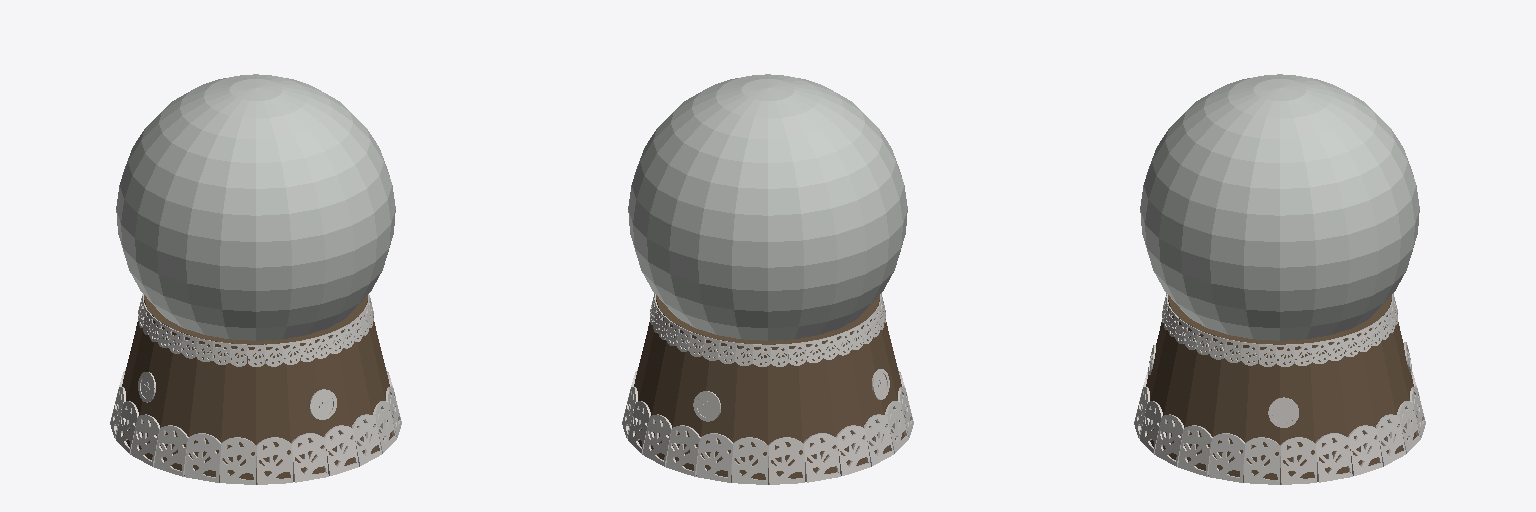
3 renders of one model, left to right at view 1: azimuth 30°, elevation 25°; view 2: azimuth 150°, elevation 25°; view 3: azimuth 270°, elevation 25°, orthographic.
Visible parts, largest first — view 1: Mesh1 Group1 Groupe_13_1 Model, Mesh58 Group60 Group46 Groupe_13_1 Model, Mesh63 Group65 Group46 Groupe_13_1 Model, Mesh61 Group63 Group46 Groupe_13_1 Model, Mesh48 Group50 Group46 Groupe_13_1 Model, Mesh62 Group64 Group46 Groupe_13_1 Model, Mesh51 Group53 Group46 Groupe_13_1 Model, Mesh68 Group70 Group46 Groupe_13_1 Model, Mesh49 Group51 Group46 Groupe_13_1 Model, Mesh65 Group67 Group46 Groupe_13_1 Model, Mesh45 Group47 Group46 Groupe_13_1 Model, Mesh3 Group3 Groupe_13_1 Model; view 2: Mesh1 Group1 Groupe_13_1 Model, Mesh59 Group61 Group46 Groupe_13_1 Model, Mesh64 Group66 Group46 Groupe_13_1 Model, Mesh69 Group71 Group46 Groupe_13_1 Model, Mesh60 Group62 Group46 Groupe_13_1 Model, Mesh67 Group69 Group46 Groupe_13_1 Model, Mesh57 Group59 Group46 Groupe_13_1 Model, Mesh50 Group52 Group46 Groupe_13_1 Model, Mesh65 Group67 Group46 Groupe_13_1 Model, Mesh56 Group58 Group46 Groupe_13_1 Model, Mesh68 Group70 Group46 Groupe_13_1 Model, Mesh78 Group82 Groupe_13_1 Model; view 3: Mesh1 Group1 Groupe_13_1 Model, Mesh47 Group49 Group46 Groupe_13_1 Model, Mesh53 Group55 Group46 Groupe_13_1 Model, Mesh46 Group48 Group46 Groupe_13_1 Model, Mesh54 Group56 Group46 Groupe_13_1 Model, Mesh52 Group54 Group46 Groupe_13_1 Model, Mesh55 Group57 Group46 Groupe_13_1 Model, Mesh45 Group47 Group46 Groupe_13_1 Model, Mesh56 Group58 Group46 Groupe_13_1 Model, Mesh79 Group83 Groupe_13_1 Model, Mesh49 Group51 Group46 Groupe_13_1 Model, Mesh50 Group52 Group46 Groupe_13_1 Model.
Part boxes in pixels (bbox=[...]): Mesh1 Group1 Groupe_13_1 Model: bbox=[116, 74, 395, 484]; Mesh58 Group60 Group46 Groupe_13_1 Model: bbox=[220, 437, 256, 484]; Mesh63 Group65 Group46 Groupe_13_1 Model: bbox=[256, 437, 292, 484]; Mesh61 Group63 Group46 Groupe_13_1 Model: bbox=[184, 433, 220, 482]; Mesh48 Group50 Group46 Groupe_13_1 Model: bbox=[291, 433, 328, 482]; Mesh62 Group64 Group46 Groupe_13_1 Model: bbox=[154, 425, 188, 476]; Mesh51 Group53 Group46 Groupe_13_1 Model: bbox=[324, 425, 358, 475]; Mesh68 Group70 Group46 Groupe_13_1 Model: bbox=[130, 414, 159, 466]; Mesh49 Group51 Group46 Groupe_13_1 Model: bbox=[352, 414, 381, 466]; Mesh65 Group67 Group46 Groupe_13_1 Model: bbox=[116, 401, 138, 453]; Mesh45 Group47 Group46 Groupe_13_1 Model: bbox=[373, 401, 396, 453]; Mesh3 Group3 Groupe_13_1 Model: bbox=[309, 389, 336, 419]; Mesh1 Group1 Groupe_13_1 Model: bbox=[628, 74, 907, 484]; Mesh59 Group61 Group46 Groupe_13_1 Model: bbox=[732, 437, 768, 484]; Mesh64 Group66 Group46 Groupe_13_1 Model: bbox=[768, 437, 804, 484]; Mesh69 Group71 Group46 Groupe_13_1 Model: bbox=[696, 433, 732, 482]; Mesh60 Group62 Group46 Groupe_13_1 Model: bbox=[803, 433, 840, 482]; Mesh67 Group69 Group46 Groupe_13_1 Model: bbox=[666, 425, 700, 476]; Mesh57 Group59 Group46 Groupe_13_1 Model: bbox=[836, 425, 870, 475]; Mesh50 Group52 Group46 Groupe_13_1 Model: bbox=[642, 414, 671, 466]; Mesh65 Group67 Group46 Groupe_13_1 Model: bbox=[864, 414, 893, 466]; Mesh56 Group58 Group46 Groupe_13_1 Model: bbox=[628, 401, 650, 453]; Mesh68 Group70 Group46 Groupe_13_1 Model: bbox=[885, 401, 908, 453]; Mesh78 Group82 Groupe_13_1 Model: bbox=[693, 391, 720, 421]; Mesh1 Group1 Groupe_13_1 Model: bbox=[1140, 74, 1419, 484]; Mesh47 Group49 Group46 Groupe_13_1 Model: bbox=[1244, 437, 1280, 484]; Mesh53 Group55 Group46 Groupe_13_1 Model: bbox=[1280, 437, 1316, 484]; Mesh46 Group48 Group46 Groupe_13_1 Model: bbox=[1208, 433, 1244, 482]; Mesh54 Group56 Group46 Groupe_13_1 Model: bbox=[1315, 433, 1352, 482]; Mesh52 Group54 Group46 Groupe_13_1 Model: bbox=[1178, 425, 1212, 476]; Mesh55 Group57 Group46 Groupe_13_1 Model: bbox=[1348, 425, 1382, 475]; Mesh45 Group47 Group46 Groupe_13_1 Model: bbox=[1154, 414, 1183, 466]; Mesh56 Group58 Group46 Groupe_13_1 Model: bbox=[1376, 414, 1405, 466]; Mesh79 Group83 Groupe_13_1 Model: bbox=[1268, 397, 1298, 427]; Mesh49 Group51 Group46 Groupe_13_1 Model: bbox=[1140, 401, 1162, 453]; Mesh50 Group52 Group46 Groupe_13_1 Model: bbox=[1397, 401, 1420, 453].
Size of the model in its own units: 11.2 by 14.21 by 11.2.